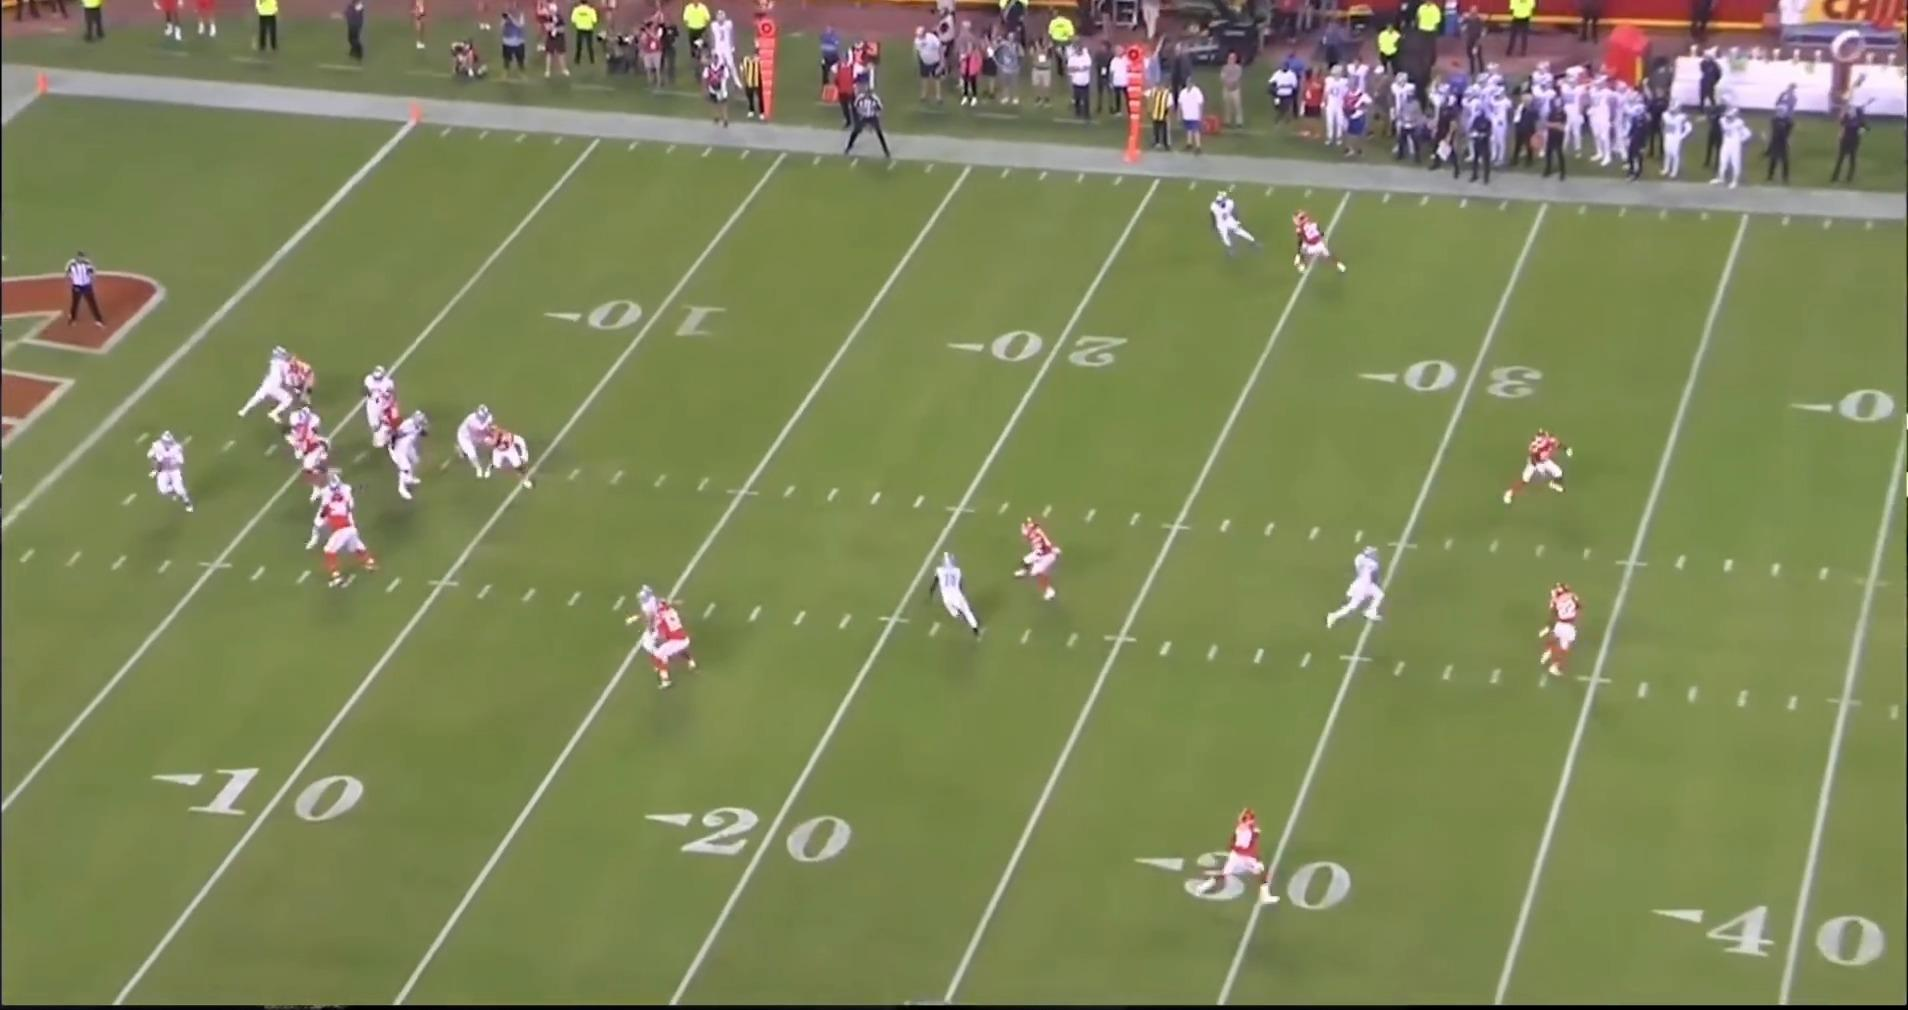defense: (1204, 808, 1276, 912), (308, 494, 375, 588), (1505, 425, 1579, 509), (647, 601, 703, 696), (1010, 516, 1069, 603), (1532, 583, 1582, 683), (1285, 211, 1346, 285), (488, 428, 541, 495), (291, 419, 338, 487), (281, 355, 318, 405), (376, 400, 408, 444)
oline: (299, 476, 358, 561), (380, 405, 429, 502), (440, 403, 497, 484), (358, 362, 404, 451), (281, 401, 323, 460)
qb: (141, 425, 193, 513)
ref: (844, 85, 900, 163), (62, 249, 107, 331)
skill: (1328, 543, 1397, 634), (929, 548, 992, 636), (242, 343, 307, 427), (628, 585, 678, 674), (1205, 189, 1261, 260)
